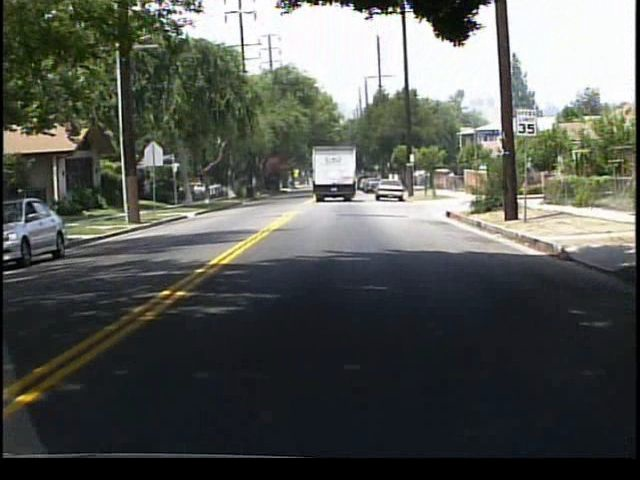person: (446, 168, 457, 191)
